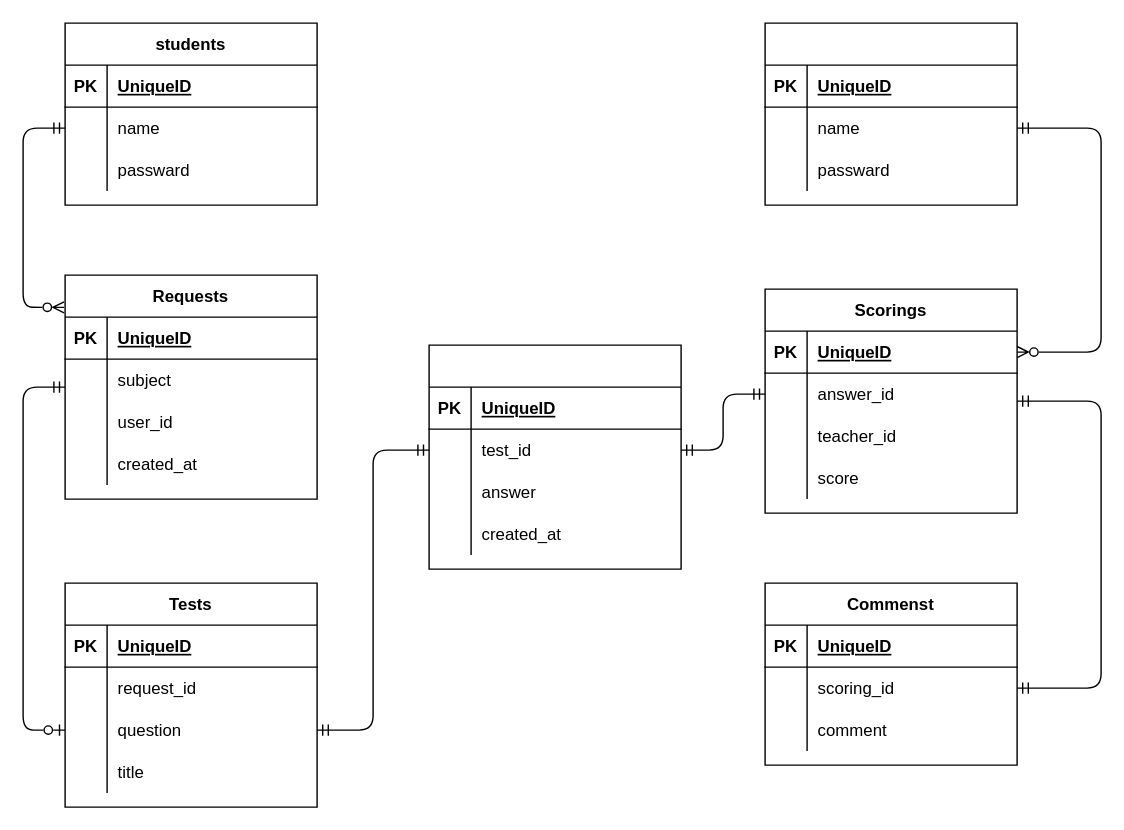
The diagram is 1124 pixels wide and 830 high, and some of its shapes have lost their labels. The box of each missing label's shape, as (x1, y1, x2, y2) in pixels:
Answers: (428, 344, 681, 569)
Teachers: (764, 22, 1017, 205)
